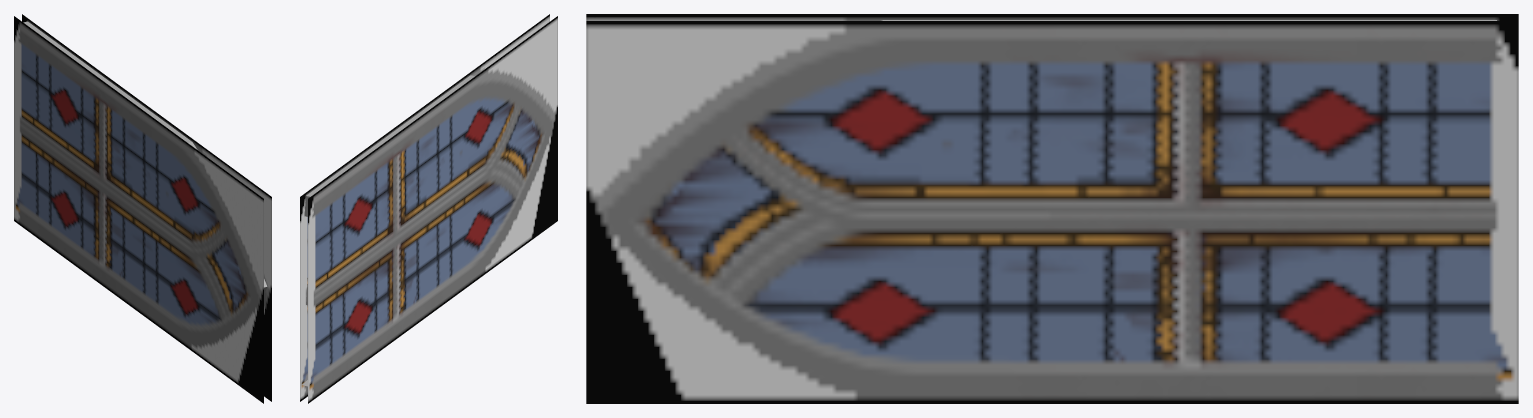
File: pz_native_location_community_church_small_01_118_frame.obj
3 renders of one model, left to right at view 1: azimuth 30°, elevation 25°; view 2: azimuth 150°, elevation 25°; view 3: azimuth 270°, elevation 25°, orthographic. The views are drawn at different scales.
Visible parts, largest first — view 1: pz_native_location_community_church_small_01_118_frame; view 2: pz_native_location_community_church_small_01_118_frame; view 3: pz_native_location_community_church_small_01_118_frame.
Part boxes in pixels (box(x1,y1,x2,y2)): pz_native_location_community_church_small_01_118_frame: box(14, 14, 271, 403); pz_native_location_community_church_small_01_118_frame: box(300, 14, 557, 403); pz_native_location_community_church_small_01_118_frame: box(586, 14, 1518, 403).
Size of the model in its own units: 0.04 by 1 by 2.21.
1 material, 1 textured.
